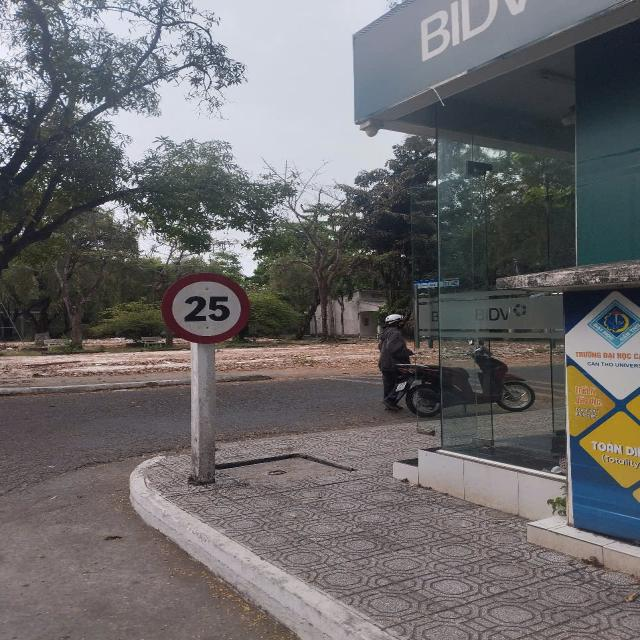Tre_Em: (160, 272, 252, 344)
